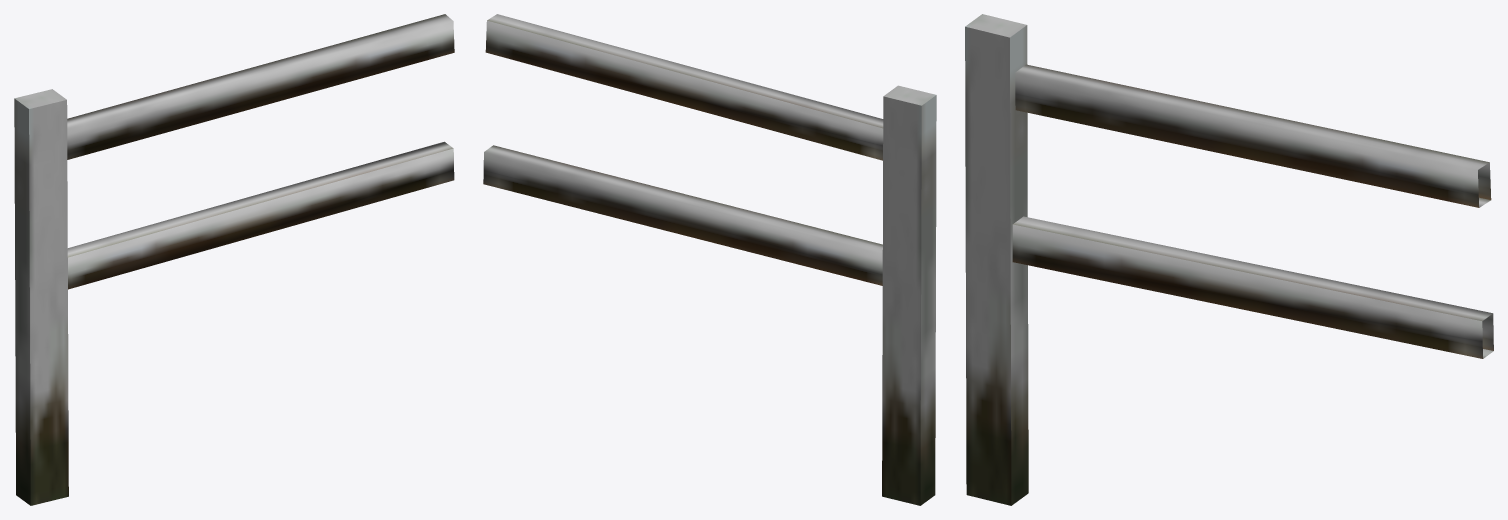
File: general_obj_fence04.fbx
3 renders of one model, left to right at view 1: azimuth 30°, elevation 25°; view 2: azimuth 150°, elevation 25°; view 3: azimuth 330°, elevation 25°, orthographic. The views are drawn at different scales.
Visible parts, largest first — view 1: Sphere01; view 2: Sphere01; view 3: Sphere01.
Boxes of the visible parts, <box> form: Sphere01: <box>14,14,454,505</box>; Sphere01: <box>483,14,936,505</box>; Sphere01: <box>965,14,1493,505</box>.
Size of the model in its own units: 2.44 by 2.14 by 0.1635.
